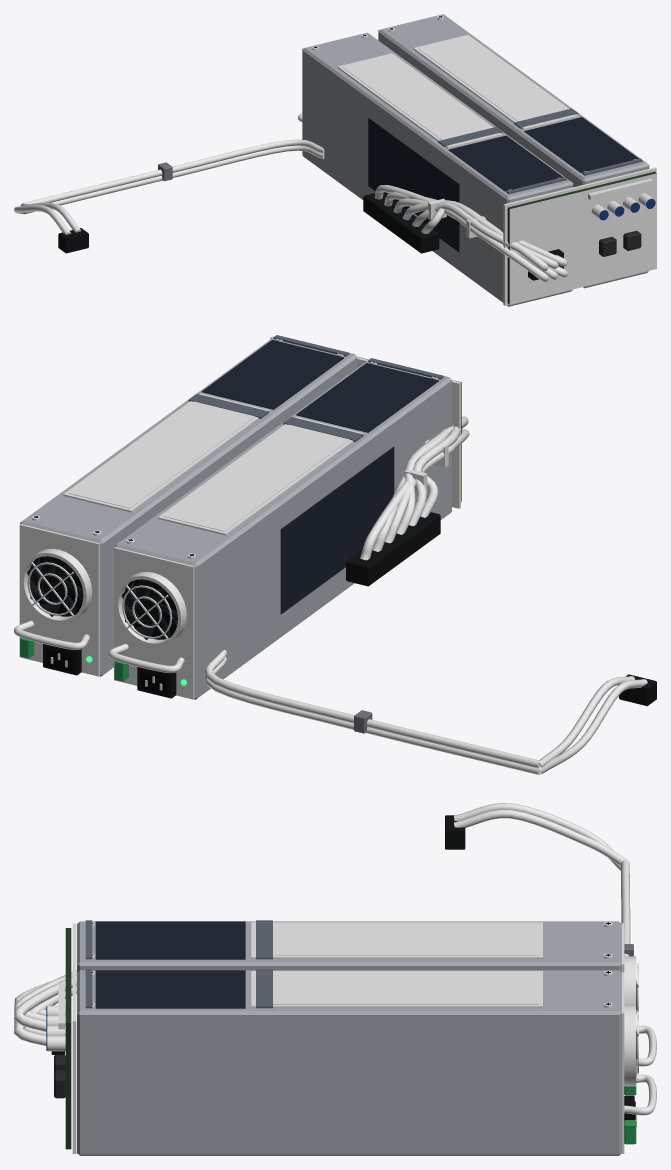
File: hwm_psu_1600w_tit.glb
3 views of the same model, one above another, from view 1: azimuth 30°, elevation 25°; view 2: azimuth 150°, elevation 25°; view 3: azimuth 270°, elevation 25° (orthographic). The views are drawn at different scales.
Visible parts, largest first — view 1: Body, Cable_ATX24, Cable_EPS_Run, Cable_EPS_Plug; view 2: Body, Cable_ATX24, Cable_EPS_Run, Cable_EPS_Plug; view 3: Body, Cable_EPS_Plug, Cable_ATX24, Cable_EPS_Run.
Boxes of the visible parts, x1=… form: Body: x1=298, y1=14, x2=656, y2=306; Cable_ATX24: x1=363, y1=185, x2=568, y2=281; Cable_EPS_Run: x1=23, y1=139, x2=324, y2=214; Cable_EPS_Plug: x1=14, y1=202, x2=88, y2=253; Body: x1=14, y1=335, x2=461, y2=699; Cable_ATX24: x1=346, y1=416, x2=469, y2=586; Cable_EPS_Run: x1=204, y1=650, x2=540, y2=774; Cable_EPS_Plug: x1=538, y1=674, x2=656, y2=773; Body: x1=46, y1=920, x2=656, y2=1155; Cable_EPS_Plug: x1=445, y1=803, x2=627, y2=870; Cable_ATX24: x1=14, y1=970, x2=76, y2=1054; Cable_EPS_Run: x1=621, y1=859, x2=633, y2=956.
Bounding box in the file's own units: 0.4035 × 0.0958 × 0.3776.
